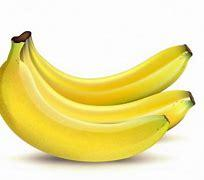banana: (0, 28, 200, 163)
